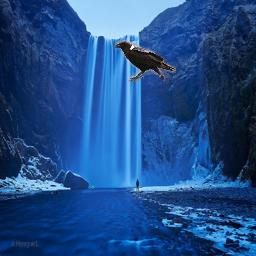Crow: (114, 40, 176, 83)
